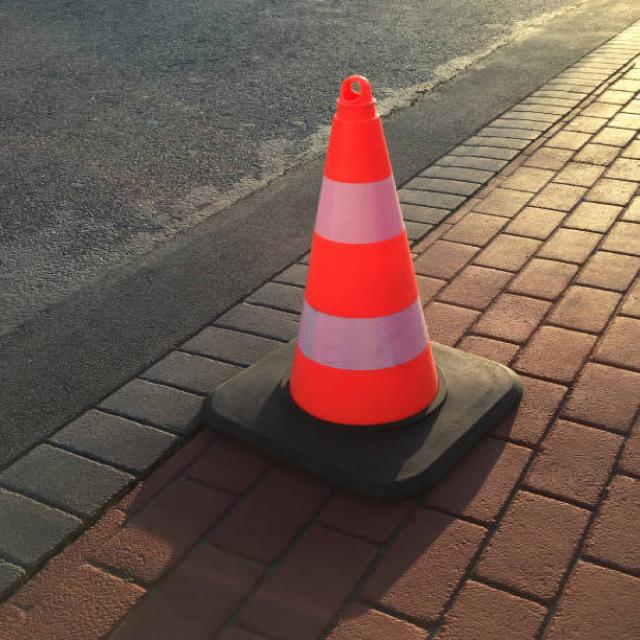Traffic Cone: (170, 59, 550, 518)
